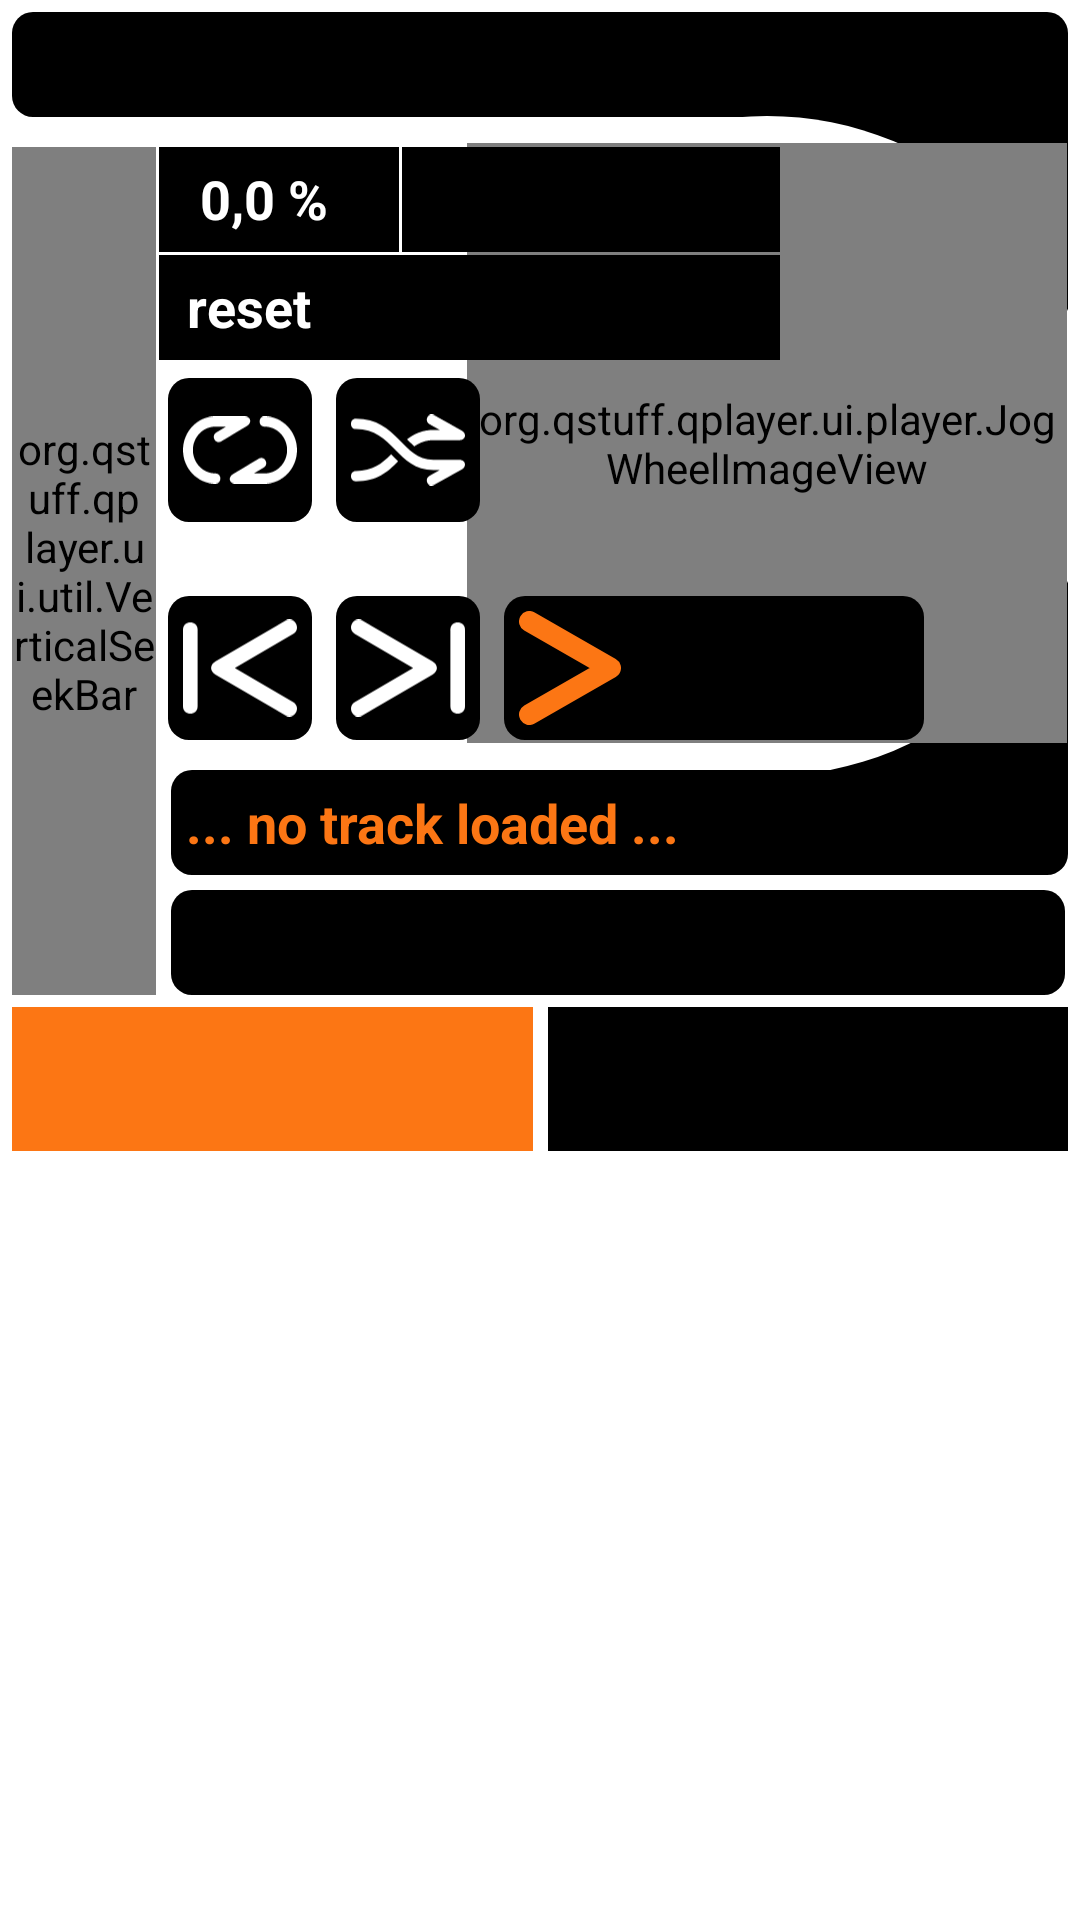

Named icons in this screenshot (1080px x 1920px) and their centers, (x,y):
loop: (240,450)
next: (408,668)
previous: (240,668)
shuffle: (408,450)
